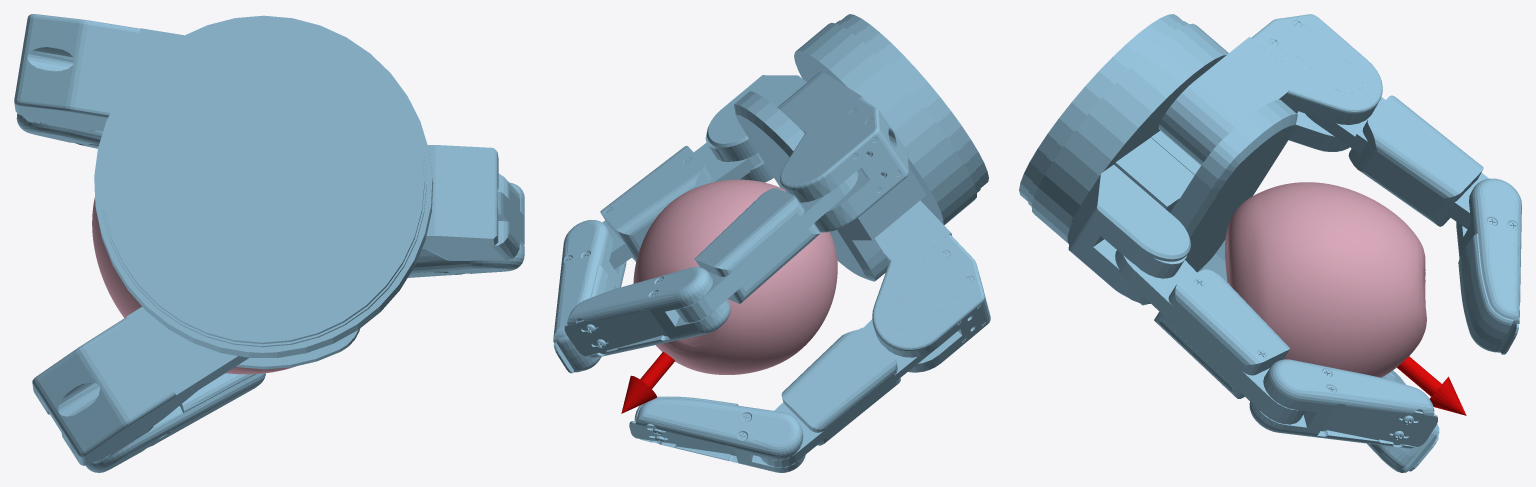
3 renders of one model, left to right at view 1: azimuth 30°, elevation 25°; view 2: azimuth 150°, elevation 25°; view 3: azimuth 270°, elevation 25°, orthographic. The views are drawn at different scales.
Visible parts, largest first — view 1: world, apple.stl; view 2: world, apple.stl; view 3: world, apple.stl.
Part boxes in pixels (x1,y1,x2,y2): world: (14, 14, 524, 472); apple.stl: (92, 197, 295, 374); world: (553, 14, 990, 472); apple.stl: (633, 179, 837, 374); world: (1019, 14, 1521, 472); apple.stl: (1197, 182, 1426, 377).
Bounding box in the file's own units: 0.1676 × 0.1601 × 0.1793.
